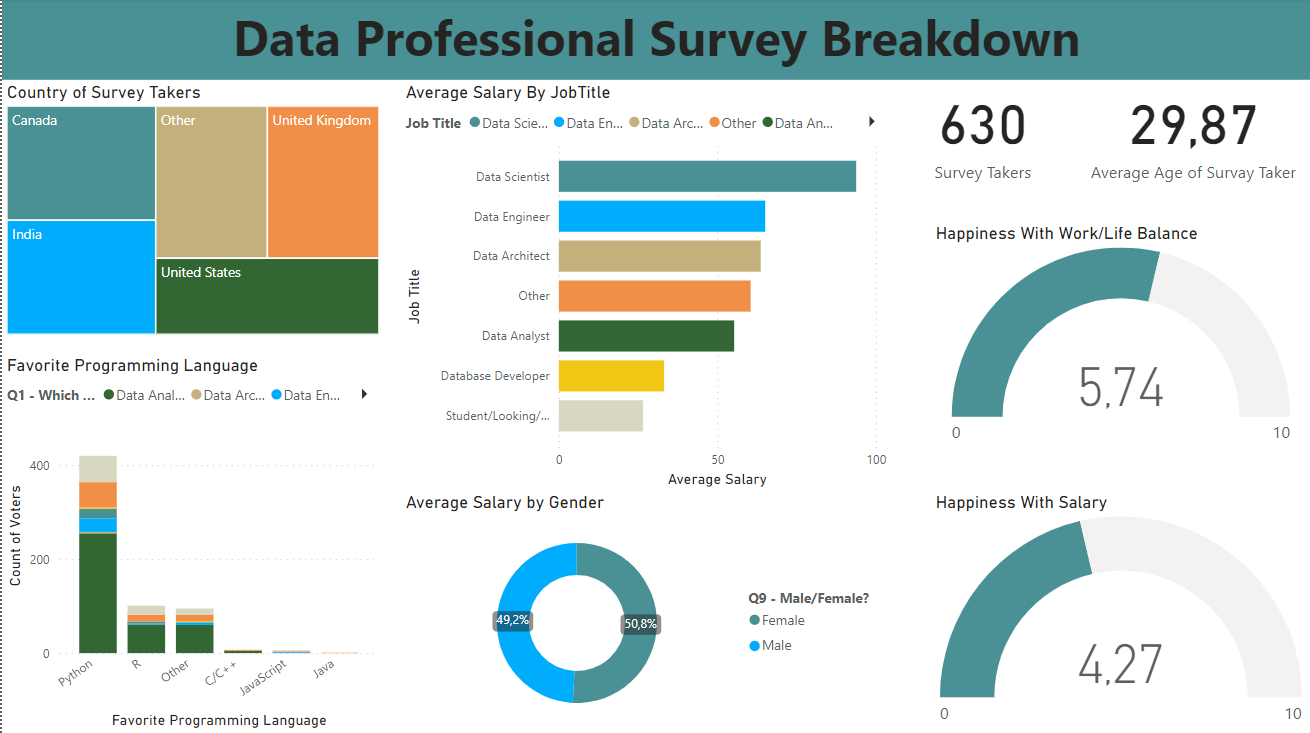

What the dashboard file says about the page in this screenshot:
{"tool":"powerbi","page":{"name":"Page 1","canvas":[1280,720],"ordinal":0},"visuals":[{"type":"textbox","box":[0,0,1280.6,80.2],"z":0},{"type":"cardVisual","fields":{"Data":["CountNonNull(Data Professional Survey.Unique ID)"]},"box":[869.5,80.2,180.5,108.9],"z":1000},{"type":"cardVisual","fields":{"Data":["Avg(Data Professional Survey.Q10 - Current Age)"]},"box":[1050,80.2,230.6,108.9],"z":2000},{"type":"barChart","title":"Average Salary By JobTitle","fields":{"Category":["Data Professional Survey.Q1 - Which Title Best Fits your Current Role?.1"],"Y":["Avg(Data Professional Survey.Average Salary)"],"Series":["Data Professional Survey.Q1 - Which Title Best Fits your Current Role?.1"]},"box":[389.6,81.6,479.9,401.1],"z":3000},{"type":"columnChart","title":"Favorite Programming Language","fields":{"Category":["Data Professional Survey.Q5 - Favorite Programming Language.1"],"Y":["Count(Data Professional Survey.Unique ID)"],"Series":["Data Professional Survey.Q1 - Which Title Best Fits your Current Role?.1"]},"box":[0,348.1,373.9,371],"z":4000},{"type":"treemap","title":"Country of Survey Takers","fields":{"Values":["Count(Data Professional Survey.Q11 - Which Country do you live in?.1)"],"Group":["Data Professional Survey.Q11 - Which Country do you live in?.1"]},"box":[0,81.6,373.9,252.1],"z":5000},{"type":"gauge","title":"Happiness With Work/Life Balance","fields":{"Y":["Avg(Data Professional Survey.Q6 - How Happy are you in your Current Position with the following? (Work/Life Balance))"],"MinValue":["Min(Data Professional Survey.Q6 - How Happy are you in your Current Position with the following? (Work/Life Balance))1"],"MaxValue":["Max(Data Professional Survey.Q6 - How Happy are you in your Current Position with the following? (Work/Life Balance))2"]},"box":[908.2,220.6,372.4,226.3],"z":6000},{"type":"gauge","title":"Happiness With Salary","fields":{"Y":["Avg(Data Professional Survey.Q6 - How Happy are you in your Current Position with the following? (Salary))"],"MinValue":["Min(Data Professional Survey.Q6 - How Happy are you in your Current Position with the following? (Salary))"],"MaxValue":["Max(Data Professional Survey.Q6 - How Happy are you in your Current Position with the following? (Salary))"]},"box":[908.2,482.7,372.4,237.8],"z":7000},{"type":"donutChart","title":"Average Salary by Gender","fields":{"Category":["Data Professional Survey.Q9 - Male/Female?"],"Y":["Avg(Data Professional Survey.Average Salary)"]},"box":[389.6,482.7,479.9,237.8],"z":8000}]}

Visuals, with their boxes in screenshot pixels (x1, y1, x2, y2), scaled from the page's 1280x720 canvas onto the 1310x733 screenshot:
textbox: locate(0, 0, 1309, 82)
cardVisual - CountNonNull(Data Professional Survey.Unique ID): locate(890, 82, 1075, 193)
cardVisual - Avg(Data Professional Survey.Q10 - Current Age): locate(1075, 82, 1309, 193)
"Average Salary By JobTitle" barChart: locate(399, 83, 890, 491)
"Favorite Programming Language" columnChart: locate(0, 354, 383, 732)
"Country of Survey Takers" treemap: locate(0, 83, 383, 340)
"Happiness With Work/Life Balance" gauge: locate(929, 225, 1309, 455)
"Happiness With Salary" gauge: locate(929, 491, 1309, 732)
"Average Salary by Gender" donutChart: locate(399, 491, 890, 732)
